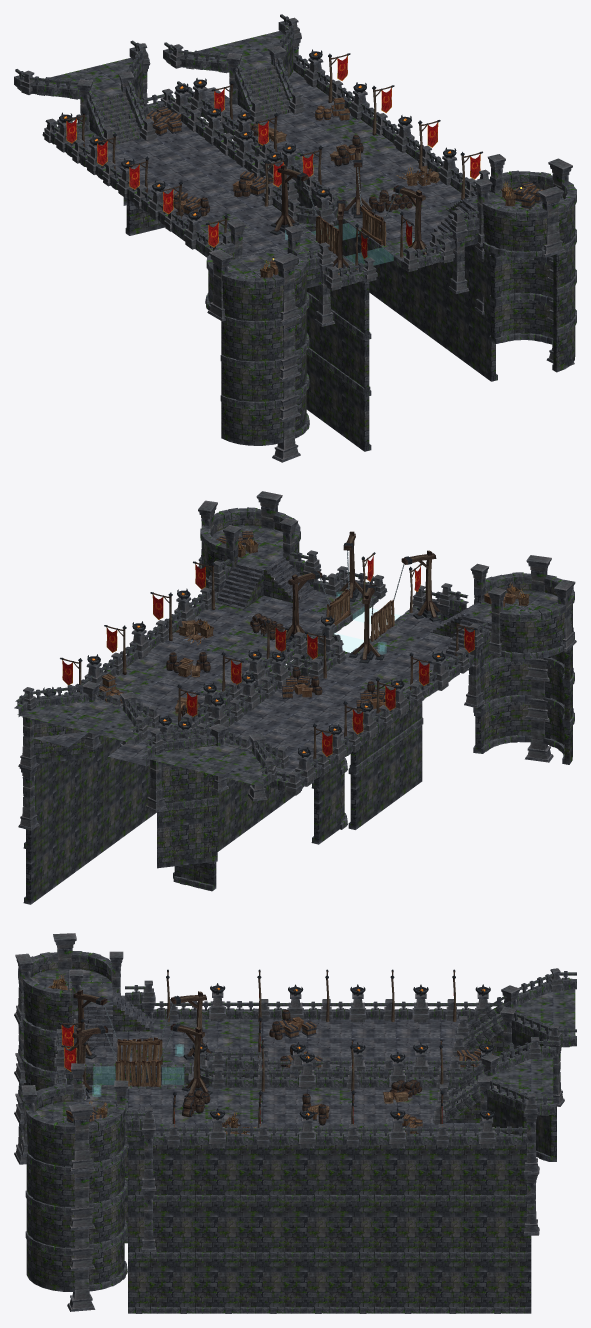
The model's file is ExterirorWallsAssets3.gltf.
3 renders of one model, top to bottom at view 1: azimuth 30°, elevation 25°; view 2: azimuth 150°, elevation 25°; view 3: azimuth 270°, elevation 25°, orthographic.
Parts seen in each view (by area): view 1: P_MOD_Wall_01_E_straight_large (×13), P_MOD_Wall_01_E_concave_med (×7), P_MOD_Wall_01_M_concave_med (×3), P_PROP_cage_holder_dungeon (×3), P_MOD_Stairs_01_E_straight_2, P_MOD_Stairs_01_E_straight_2 (1), P_MOD_WallCover_01_M_concave (2) (×2), P_MOD_Column_01_large (×2), MOD_Floor_01_O_straight_med (46), MOD_Floor_01_O_straight_med (7), MOD_Floor_01_O_straight_med (12), MOD_Floor_01_O_straight_med (43) (+18 smaller); view 2: P_MOD_Wall_01_E_straight_large (×17), P_MOD_Wall_01_E_angle_large_1 (×3), P_MOD_Wall_01_M_concave_med (×3), P_PROP_cage_holder_dungeon (×4), P_MOD_Wall_01_E_concave_med (×2), P_MOD_Stairs_01_E_straight_2_half (1) (×2), P_MOD_WallCover_01_M_concave (2) (×2), P_MOD_Stairs_01_E_straight_2_half, MOD_Floor_01_O_straight_med (16), P_MOD_Floor_01_O_straight_med (1), P_MOD_Floor_01_O_straight_med, MOD_Floor_01_O_straight_med (50) (+26 smaller); view 3: P_MOD_Wall_01_E_straight_large (×27), P_MOD_Wall_01_M_concave_med (×6), P_MOD_Wall_01_E_concave_med (×4), P_PROP_cage_holder_dungeon (×4), P_MOD_Wall_01_E_angle_large_1 (×2), P_MOD_Column_01_large (×3), P_MOD_WallCover_01_M_concave (2) (×3), P_PROP_woodbridge_dungeon_09, P_MOD_Stairs_01_E_straight_2_half, P_PROP_woodbridge_dungeon_09 (1), P_MOD_Floor_01_O_convex_med (×2), MOD_Floor_01_O_straight_med (33) (+47 smaller).
Boxes of the visible parts, x1,y1,x2,y2 form: P_MOD_Wall_01_E_straight_large (×13): [126, 198, 495, 451]; P_MOD_Wall_01_E_concave_med (×7): [221, 246, 575, 445]; P_MOD_Wall_01_M_concave_med (×3): [483, 210, 552, 343]; P_PROP_cage_holder_dungeon (×3): [270, 148, 426, 256]; P_MOD_Stairs_01_E_straight_2: [243, 65, 291, 118]; P_MOD_Stairs_01_E_straight_2 (1): [94, 92, 142, 143]; P_MOD_WallCover_01_M_concave (2) (×2): [482, 170, 553, 220]; P_MOD_Column_01_large (×2): [277, 197, 559, 311]; MOD_Floor_01_O_straight_med (46): [147, 160, 206, 185]; MOD_Floor_01_O_straight_med (7): [285, 126, 341, 152]; MOD_Floor_01_O_straight_med (12): [364, 150, 418, 175]; MOD_Floor_01_O_straight_med (43): [125, 144, 184, 168]; P_MOD_Wall_01_E_straight_large (×17): [26, 725, 422, 904]; P_MOD_Wall_01_E_angle_large_1 (×3): [34, 702, 217, 868]; P_MOD_Wall_01_M_concave_med (×3): [475, 613, 564, 753]; P_PROP_cage_holder_dungeon (×4): [286, 531, 440, 663]; P_MOD_Wall_01_E_concave_med (×2): [544, 666, 572, 764]; P_MOD_Stairs_01_E_straight_2_half (1) (×2): [265, 557, 491, 669]; P_MOD_WallCover_01_M_concave (2) (×2): [474, 572, 566, 622]; P_MOD_Stairs_01_E_straight_2_half: [215, 563, 263, 609]; MOD_Floor_01_O_straight_med (16): [203, 633, 262, 658]; P_MOD_Floor_01_O_straight_med (1): [196, 744, 253, 768]; P_MOD_Floor_01_O_straight_med: [69, 701, 125, 726]; MOD_Floor_01_O_straight_med (50): [294, 698, 351, 723]; P_MOD_Wall_01_E_straight_large (×27): [128, 1142, 531, 1307]; P_MOD_Wall_01_M_concave_med (×6): [24, 987, 124, 1284]; P_MOD_Wall_01_E_concave_med (×4): [26, 1121, 75, 1291]; P_PROP_cage_holder_dungeon (×4): [68, 990, 213, 1098]; P_MOD_Wall_01_E_angle_large_1 (×2): [487, 1096, 556, 1161]; P_MOD_Column_01_large (×3): [72, 1115, 89, 1299]; P_MOD_WallCover_01_M_concave (2) (×3): [22, 951, 126, 1131]; P_PROP_woodbridge_dungeon_09: [115, 1060, 160, 1086]; P_MOD_Stairs_01_E_straight_2_half: [83, 1006, 112, 1048]; P_PROP_woodbridge_dungeon_09 (1): [117, 1037, 162, 1065]; P_MOD_Floor_01_O_convex_med (×2): [36, 969, 112, 1120]; MOD_Floor_01_O_straight_med (33): [217, 1028, 262, 1047].
Size of the model in its own units: 37.86 by 23.82 by 50.23.
Materials: 18 (17 with a texture image).
